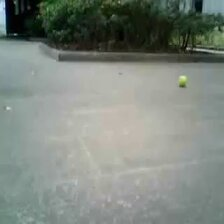tennis: (177, 74, 187, 86)
